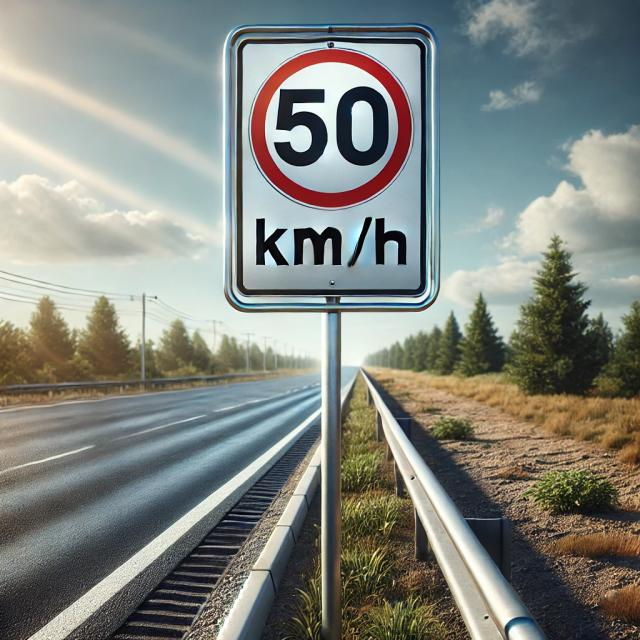Speed limit 50: (249, 46, 415, 212)
